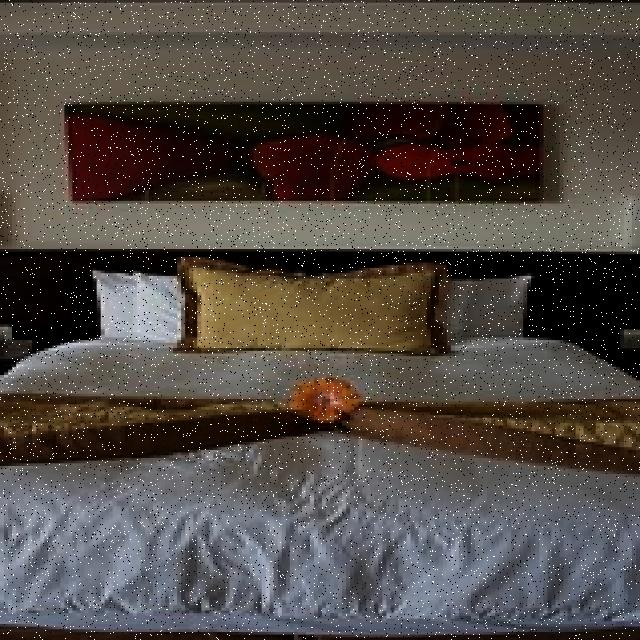bed: (1, 254, 638, 621)
